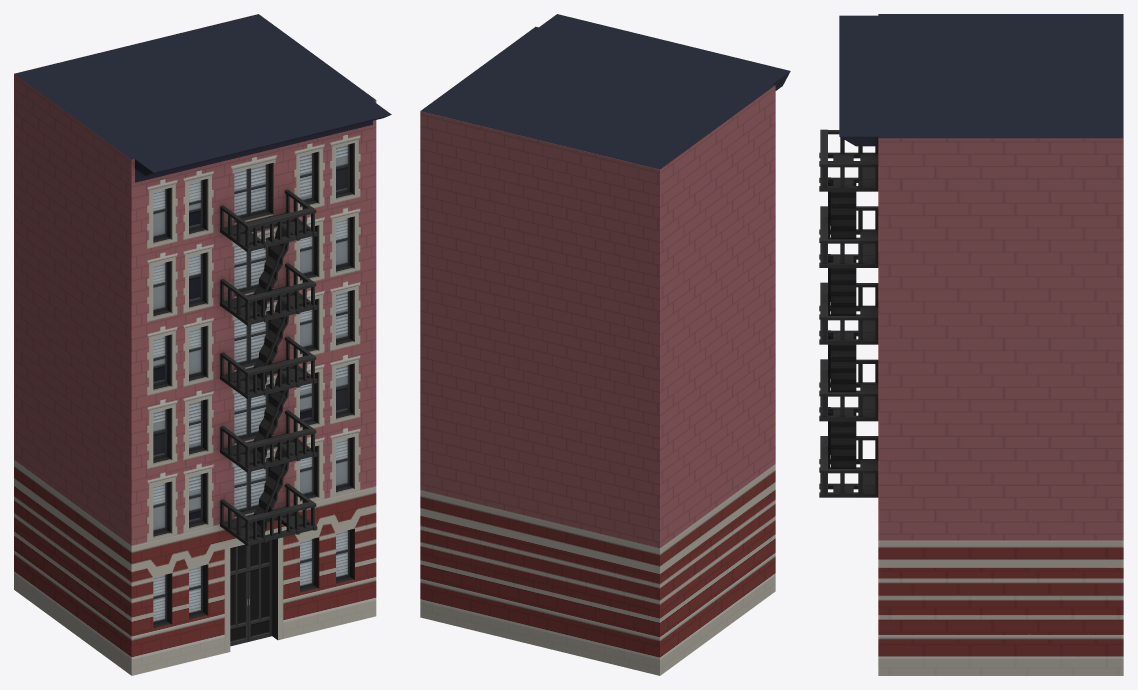
The model's file is residential-A2.glb.
3 renders of one model, left to right at view 1: azimuth 30°, elevation 25°; view 2: azimuth 150°, elevation 25°; view 3: azimuth 270°, elevation 25°, orthographic. The views are drawn at different scales.
Parts seen in each view (by area): view 1: Apartment_mesh; view 2: Apartment_mesh; view 3: Apartment_mesh.
Part boxes in pixels (x1,y1,x2,y2): Apartment_mesh: (14, 14, 391, 675); Apartment_mesh: (420, 14, 790, 675); Apartment_mesh: (819, 14, 1123, 675).
Size of the model in its own units: 8.98 by 18.1 by 9.28.
Materials: 1 (1 with a texture image).
